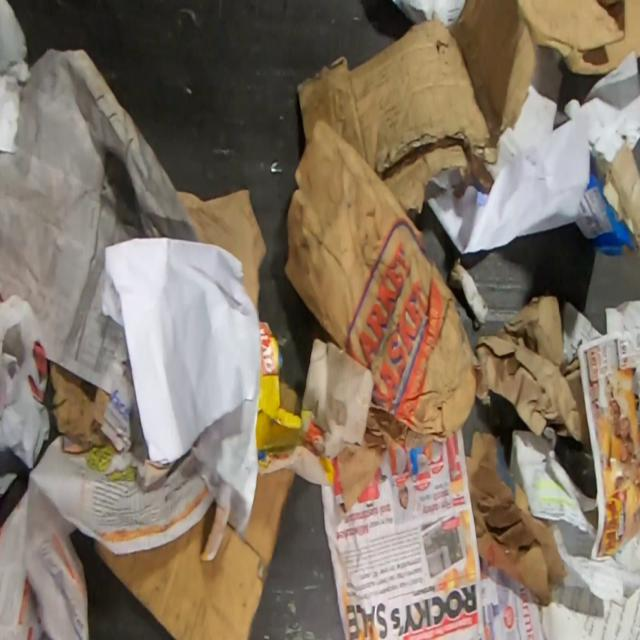cardboard: (294, 0, 639, 216), (95, 468, 299, 639), (256, 320, 316, 469), (575, 138, 640, 258)
